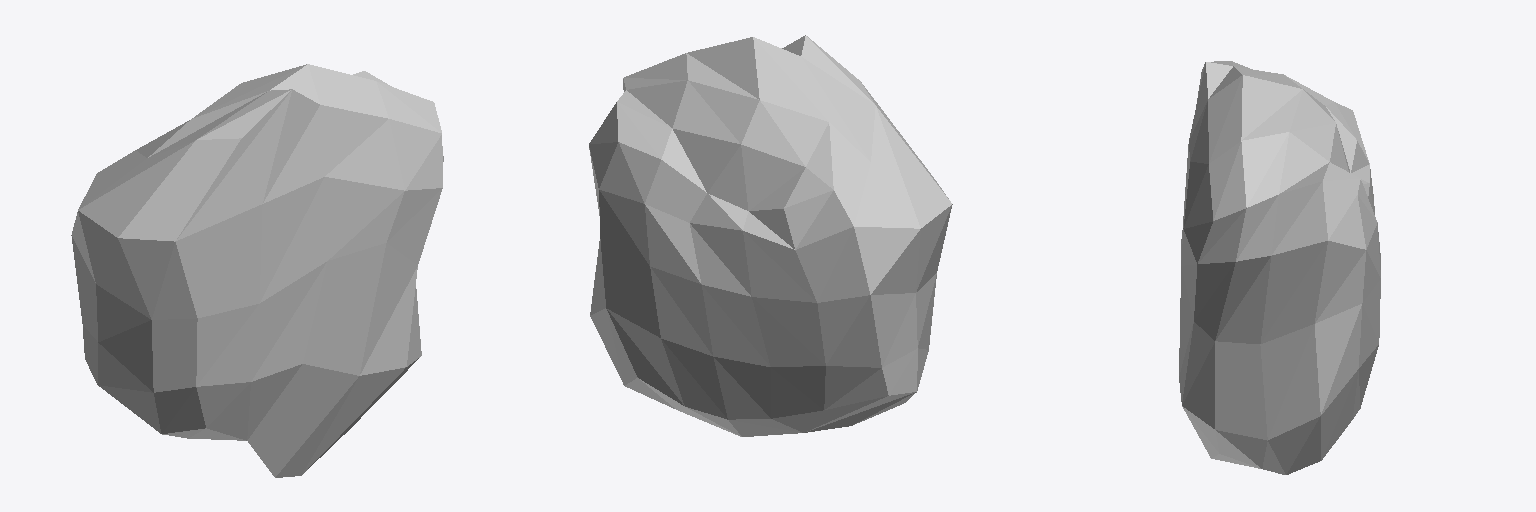
Rendered from rock.obj.
3 renders of one model, left to right at view 1: azimuth 30°, elevation 25°; view 2: azimuth 150°, elevation 25°; view 3: azimuth 270°, elevation 25°, orthographic.
Parts seen in each view (by area): view 1: node1; view 2: node1; view 3: node1.
Boxes of the visible parts, x1=… form: node1: x1=71, y1=64, x2=443, y2=477; node1: x1=589, y1=35, x2=952, y2=436; node1: x1=1179, y1=61, x2=1380, y2=474.
Bounding box in the file's own units: 3.18 × 3.63 × 1.68.